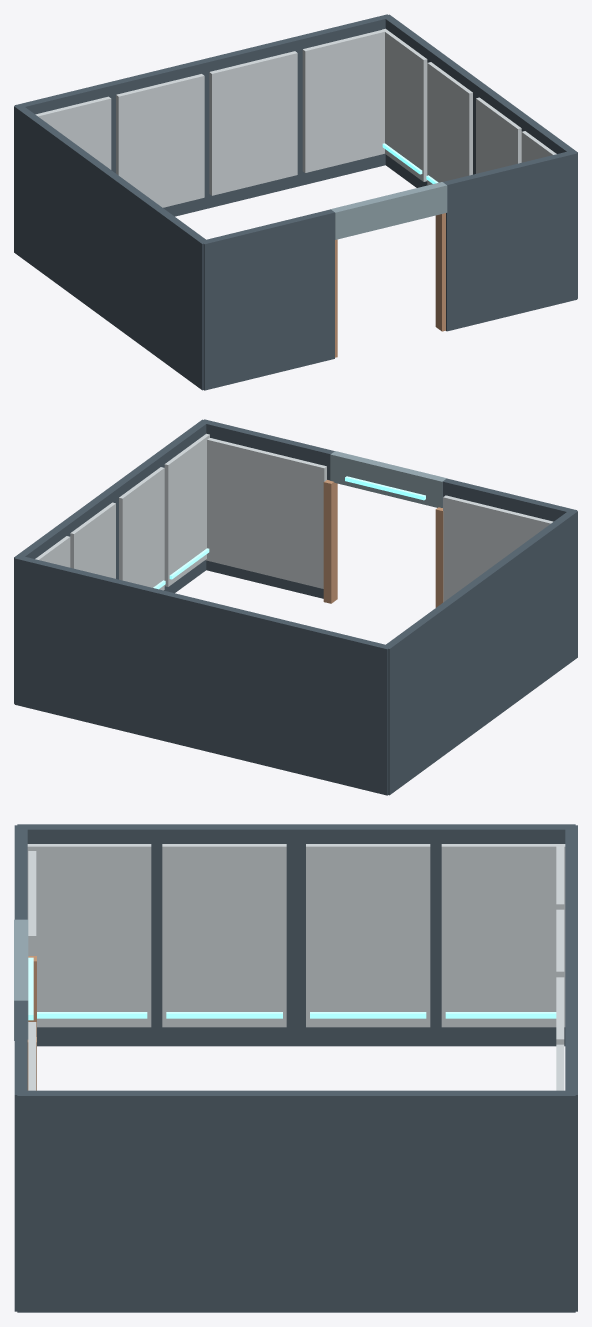
The model's file is walls.glb.
3 renders of one model, top to bottom at view 1: azimuth 30°, elevation 25°; view 2: azimuth 150°, elevation 25°; view 3: azimuth 270°, elevation 25°, orthographic. The views are drawn at different scales.
Parts seen in each view (by area): view 1: dark_0, dark_23, dark_25, ivory_21, ivory_22, ivory_20, dark_18, ivory_10, ivory_12, dark_9, steel_27, ivory_19 (+3 smaller); view 2: dark_18, dark_0, ivory_26, ivory_24, ivory_16, ivory_14, dark_9, dark_25, steel_27, ivory_12, dark_23, copper_30 (+3 smaller); view 3: dark_9, dark_0, ivory_5, ivory_3, ivory_1, ivory_7, dark_18, dark_25, steel_27, dark_23, ivory_24, blue_4 (+5 smaller).
Part boxes in pixels (x1,y1,x2,y2): dark_0: (14,104,209,390); dark_23: (203,209,334,390); dark_25: (443,150,577,331); ivory_21: (209,51,297,195); ivory_22: (302,30,387,172); ivory_20: (116,74,204,207); dark_18: (14,14,389,216); ivory_10: (382,28,427,181); ivory_12: (427,62,472,185); dark_9: (382,14,577,298); steel_27: (330,182,447,239); ivory_19: (35,96,111,169); dark_18: (14,555,388,795); dark_0: (382,509,577,795); ivory_26: (205,438,326,588); ivory_24: (443,495,553,601); ivory_16: (164,433,209,586); ivory_14: (119,467,164,590); dark_9: (14,419,209,703); dark_25: (202,419,334,598); steel_27: (330,451,446,507); ivory_12: (70,502,115,578); dark_23: (442,478,577,521); copper_30: (323,480,337,603); dark_9: (17,1090,575,1312); dark_0: (17,824,575,1046); ivory_5: (162,844,286,1027); ivory_3: (306,844,430,1027); ivory_1: (441,844,565,1027); ivory_7: (27,844,151,1027); dark_18: (565,825,577,1311); dark_25: (14,1000,27,1311); steel_27: (14,919,28,1040); dark_23: (14,825,27,919); ivory_24: (28,851,36,955); blue_4: (310,1012,426,1018).
Size of the model in its own units: 8.06 by 3 by 7.07.
